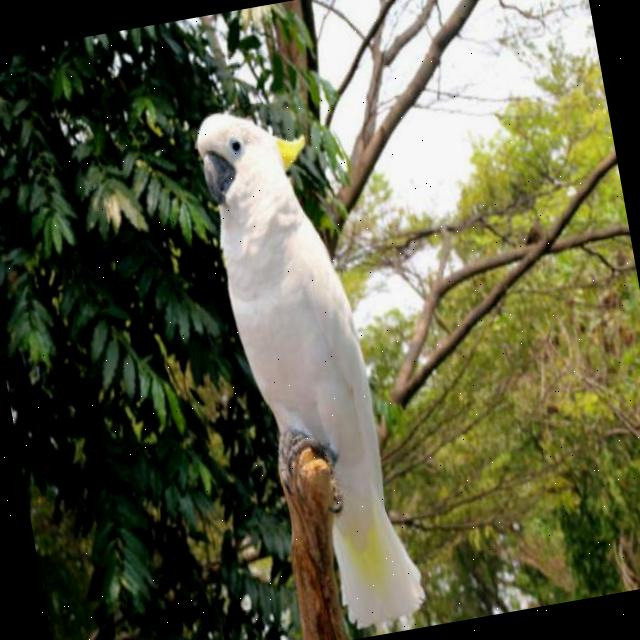Kakatua Putih: (163, 63, 450, 640)
